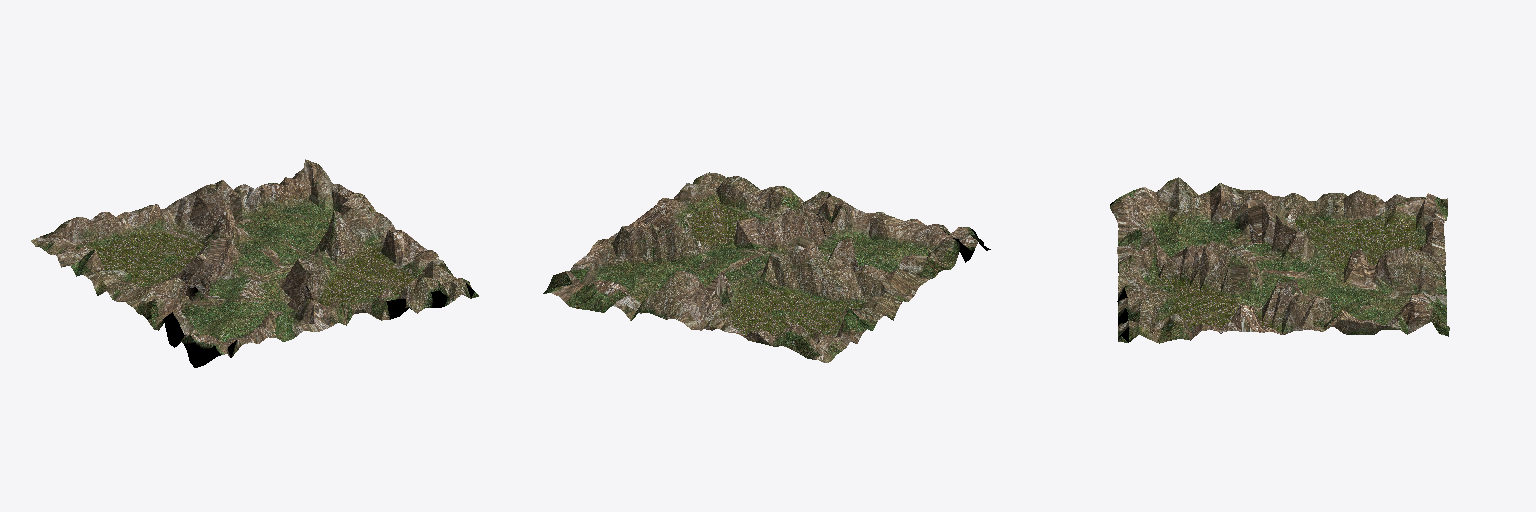
3 views of the same model, side by side, from view 1: azimuth 30°, elevation 25°; view 2: azimuth 150°, elevation 25°; view 3: azimuth 270°, elevation 25° (orthographic).
Parts seen in each view (by area): view 1: Plane_Plane.001; view 2: Plane_Plane.001; view 3: Plane_Plane.001.
Part boxes in pixels (x1,y1,x2,y2): Plane_Plane.001: (31,159,478,367); Plane_Plane.001: (543,172,990,362); Plane_Plane.001: (1110,177,1449,343).
Bounding box in the file's own units: 141 × 25.12 × 145.
Materials: 1 (1 with a texture image).